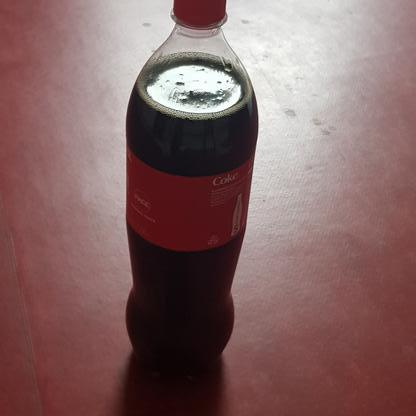coca-cola: (124, 0, 261, 375)
